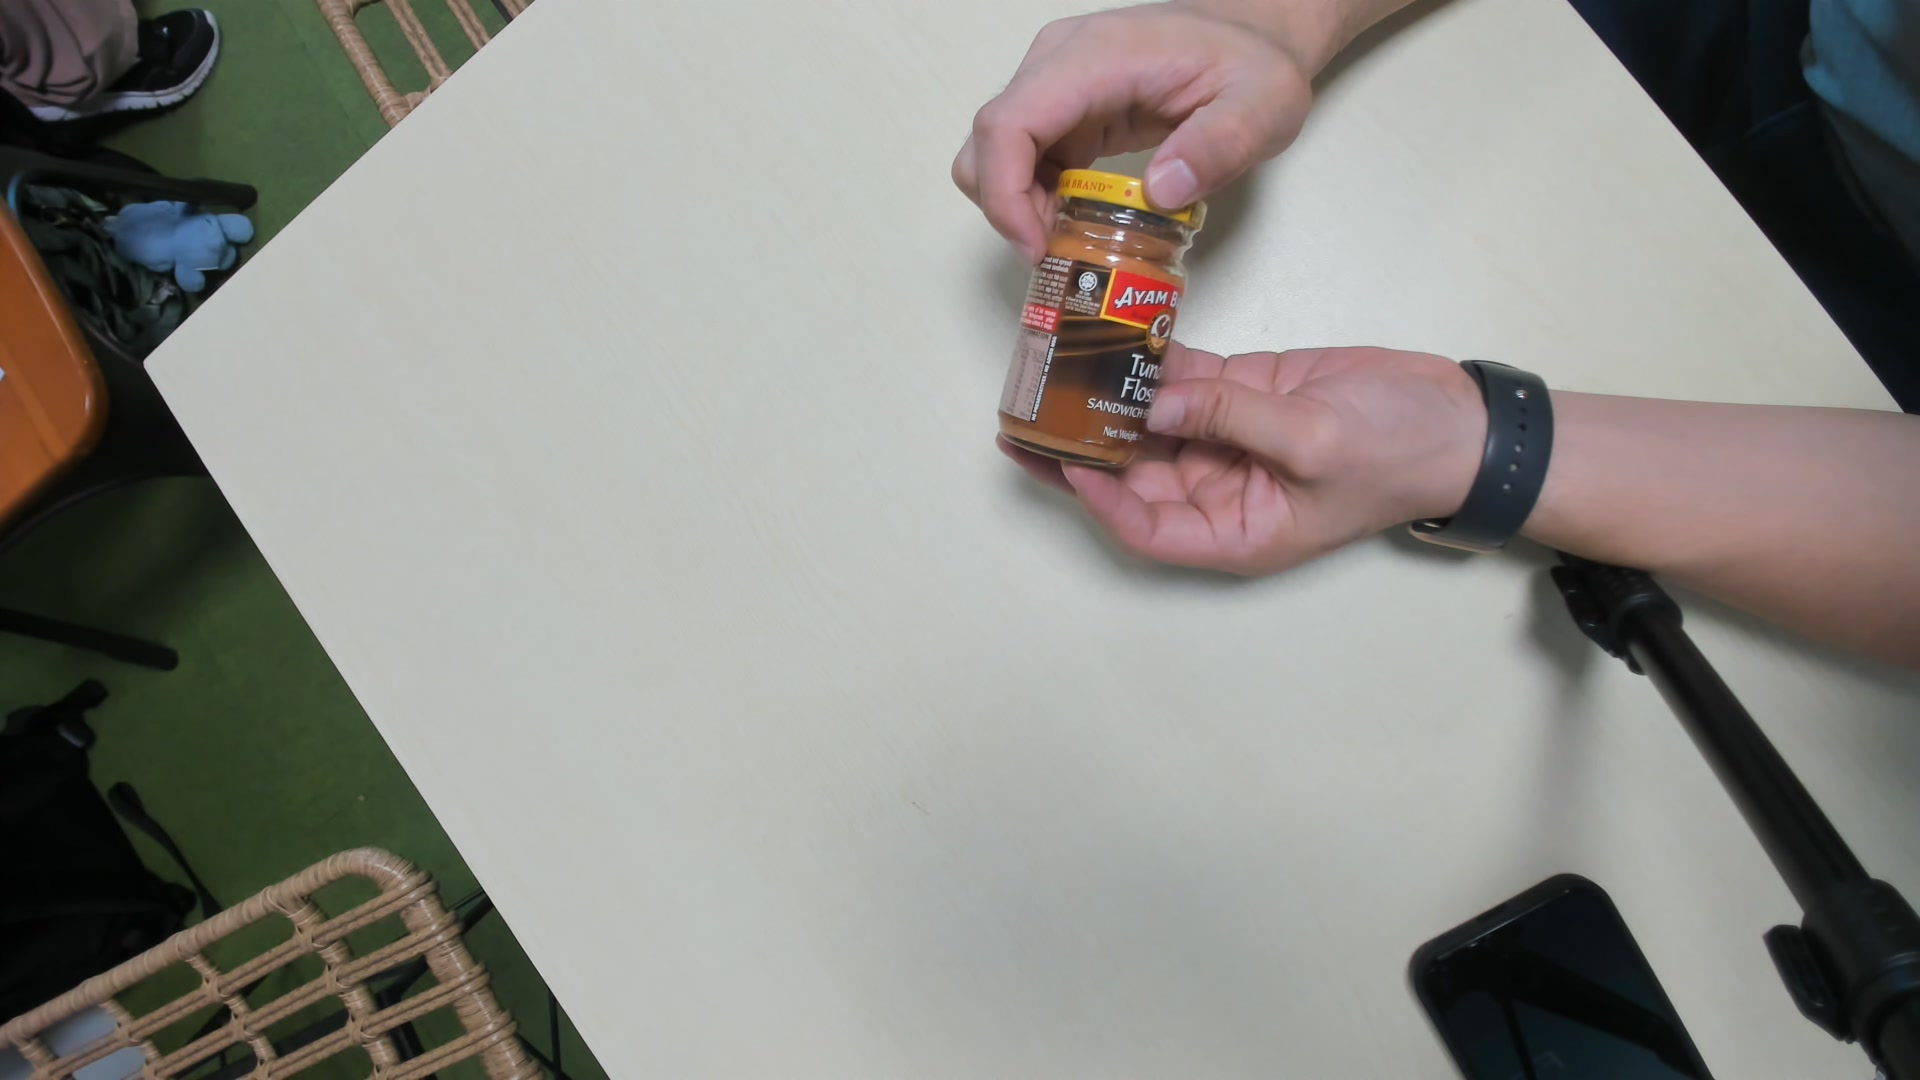OtherSauceDressing_200-299g_Halal_NonHealthy: (996, 171, 1200, 480)
